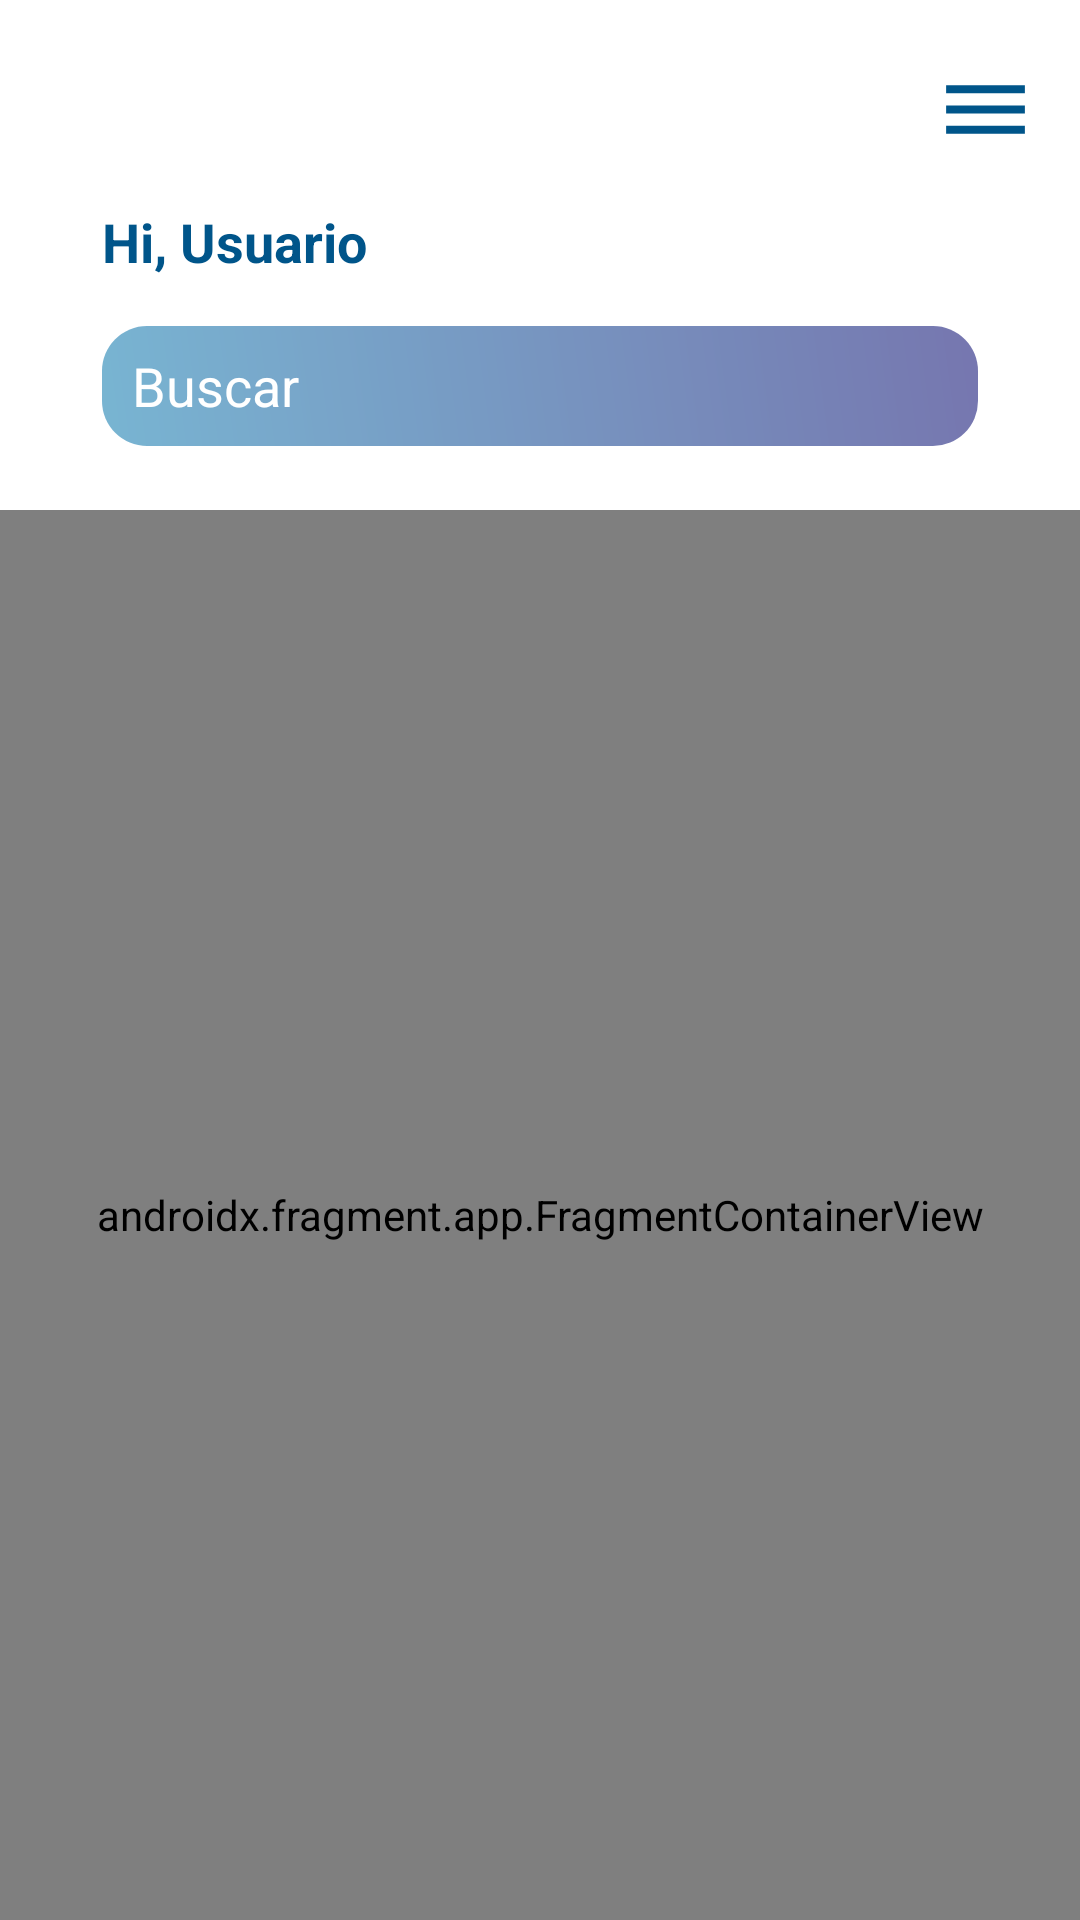

Point at icon controls on the screen. Image size 1080*1920, points as (x=x, y=y).
menu: (x=985, y=109)
